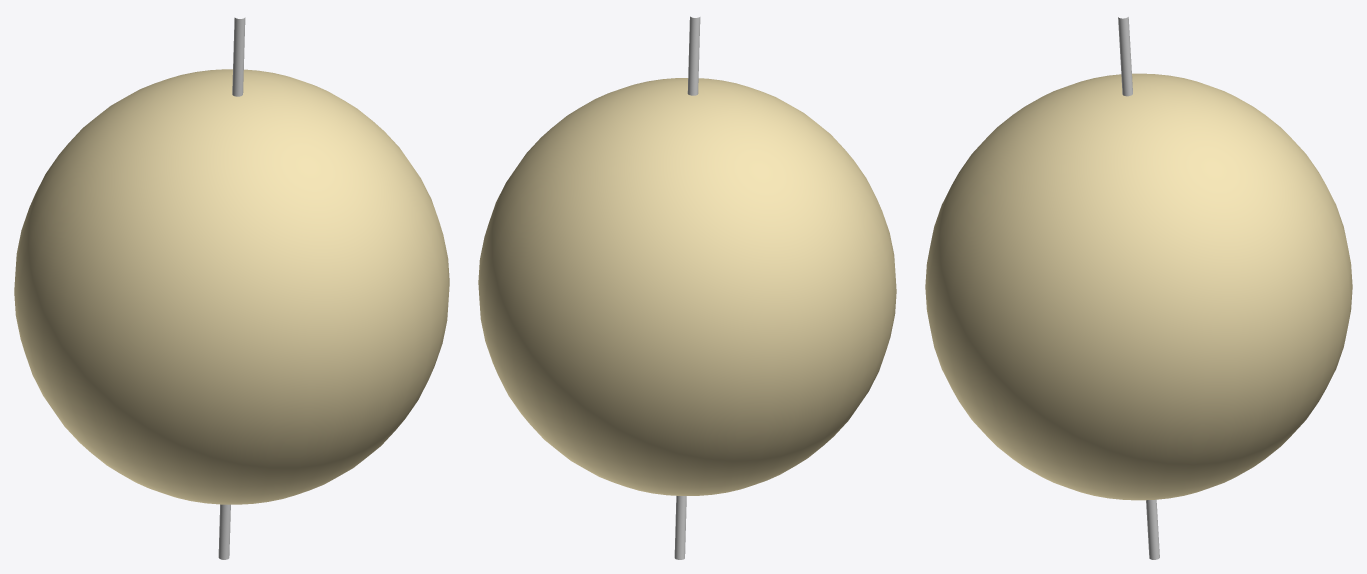
File: venus.glb
3 renders of one model, left to right at view 1: azimuth 30°, elevation 25°; view 2: azimuth 150°, elevation 25°; view 3: azimuth 270°, elevation 25°, orthographic. The views are drawn at different scales.
Visible parts, largest first — view 1: venus, venus_axis; view 2: venus, venus_axis; view 3: venus, venus_axis.
Part boxes in pixels (x1,y1,x2,y2): venus: [14, 69, 449, 504]; venus_axis: [218, 17, 245, 559]; venus: [478, 78, 896, 495]; venus_axis: [674, 16, 700, 559]; venus: [925, 73, 1352, 500]; venus_axis: [1118, 17, 1159, 559].
Size of the model in its own units: 1.01 by 1.41 by 1.01.
